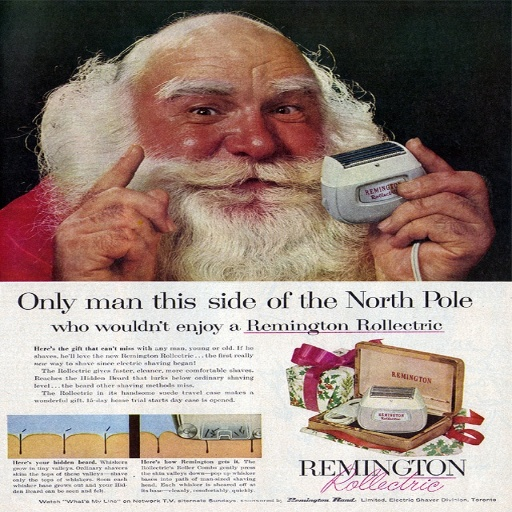hand: (371, 133, 503, 269), (51, 142, 177, 280)
